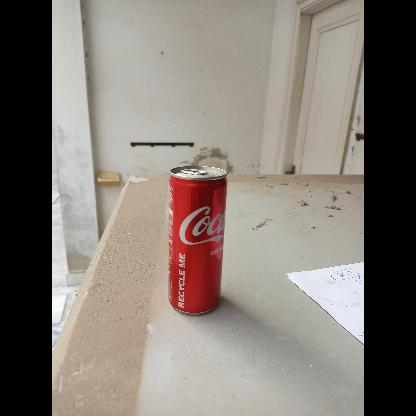Tin_Can: (167, 164, 227, 314)
